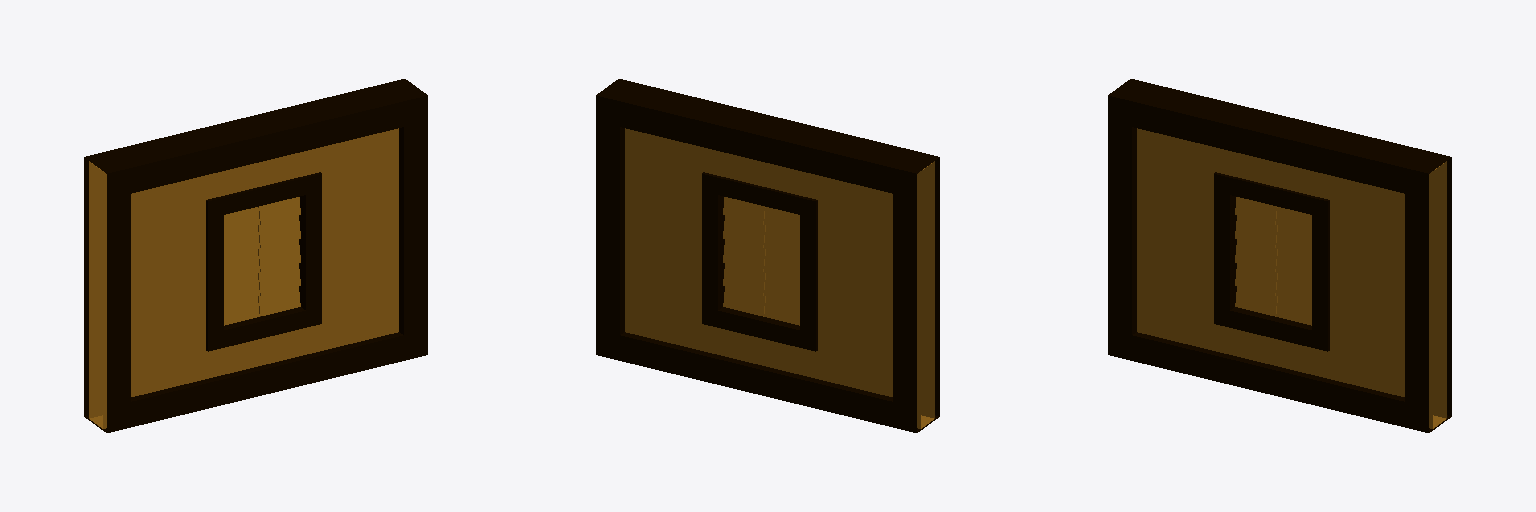
The model's file is Window_topSmall.obj.
3 renders of one model, left to right at view 1: azimuth 30°, elevation 25°; view 2: azimuth 150°, elevation 25°; view 3: azimuth 330°, elevation 25°, orthographic.
Visible parts, largest first — view 1: SmallWall_03_Cube.013; view 2: SmallWall_03_Cube.013; view 3: SmallWall_03_Cube.013.
Part boxes in pixels (bbox=[...]): SmallWall_03_Cube.013: bbox=[84, 79, 427, 432]; SmallWall_03_Cube.013: bbox=[596, 79, 939, 432]; SmallWall_03_Cube.013: bbox=[1108, 79, 1451, 432].
Bounding box in the file's own units: 2.61 × 2.01 × 0.324.